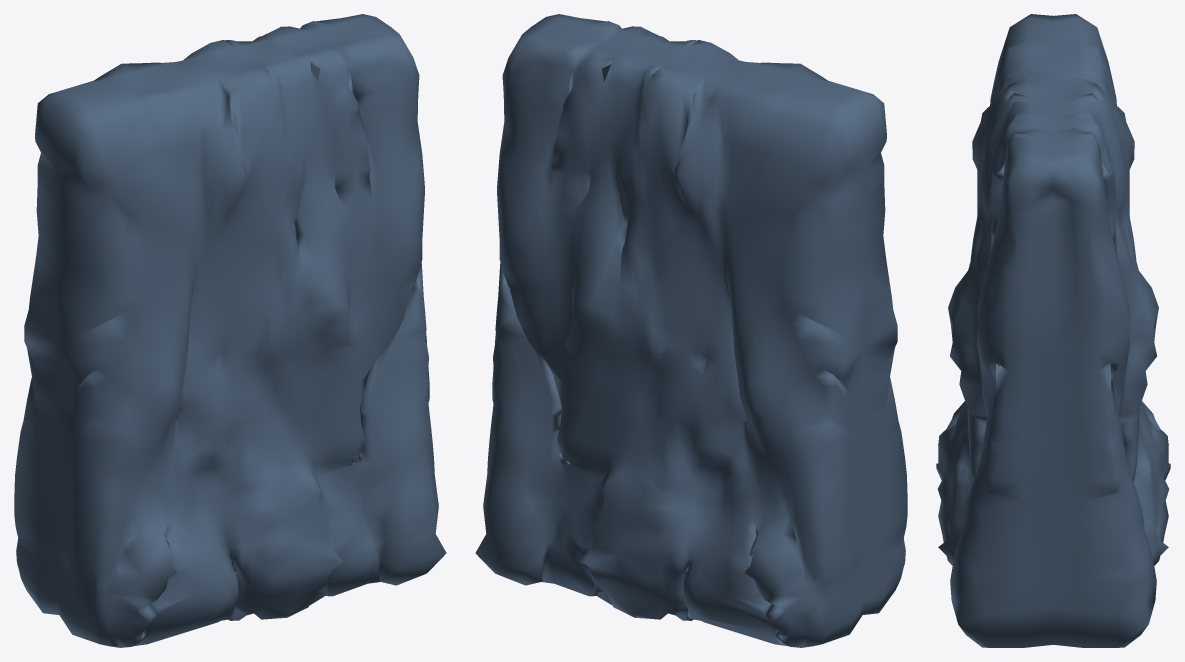
Rendered from Wall.Basic.DoubleSided.001.dae.
The picture shows the model from 3 angles, left to right: view 1: azimuth 30°, elevation 25°; view 2: azimuth 150°, elevation 25°; view 3: azimuth 270°, elevation 25°; orthographic projection. The views are drawn at different scales.
Visible parts, largest first — view 1: Plane.000; view 2: Plane.000; view 3: Plane.000.
Boxes of the visible parts, x1=… form: Plane.000: x1=14, y1=14, x2=446, y2=647; Plane.000: x1=475, y1=14, x2=907, y2=647; Plane.000: x1=936, y1=14, x2=1170, y2=647.
Size of the model in its own units: 12.87 by 8.04 by 18.66.
